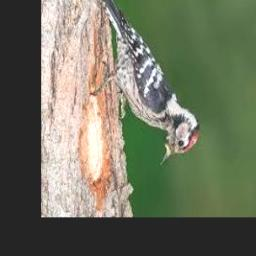Woodpecker: (91, 0, 200, 165)
